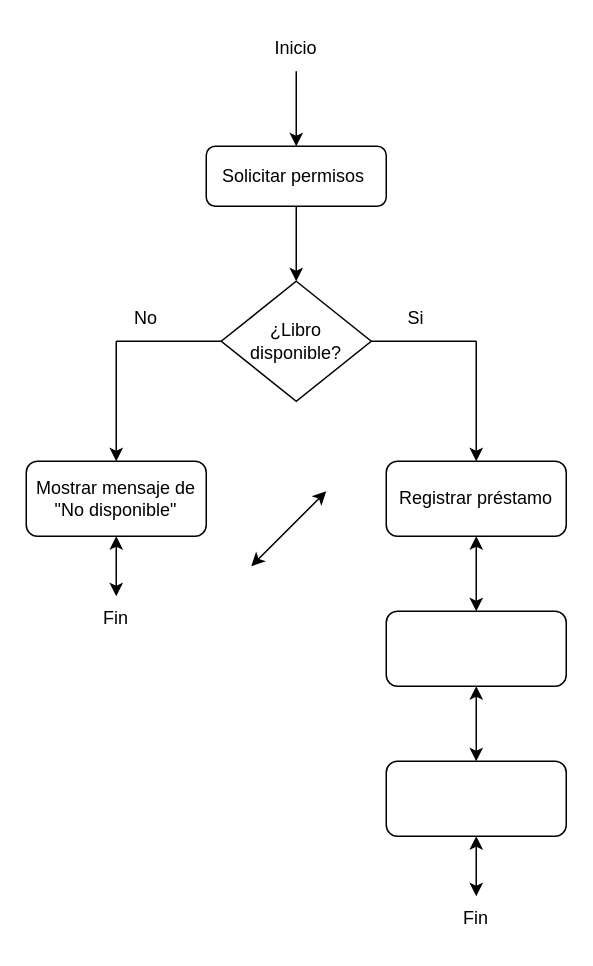
The diagram is 593 pixels wide and 966 high, and some of its shapes have lost their labels. Here are the shapes that lost their labels. From the top down, the centre of each, then its label:
point 475,648: Actualizar la cantidad disponible
point 475,798: Enviar confirmación
